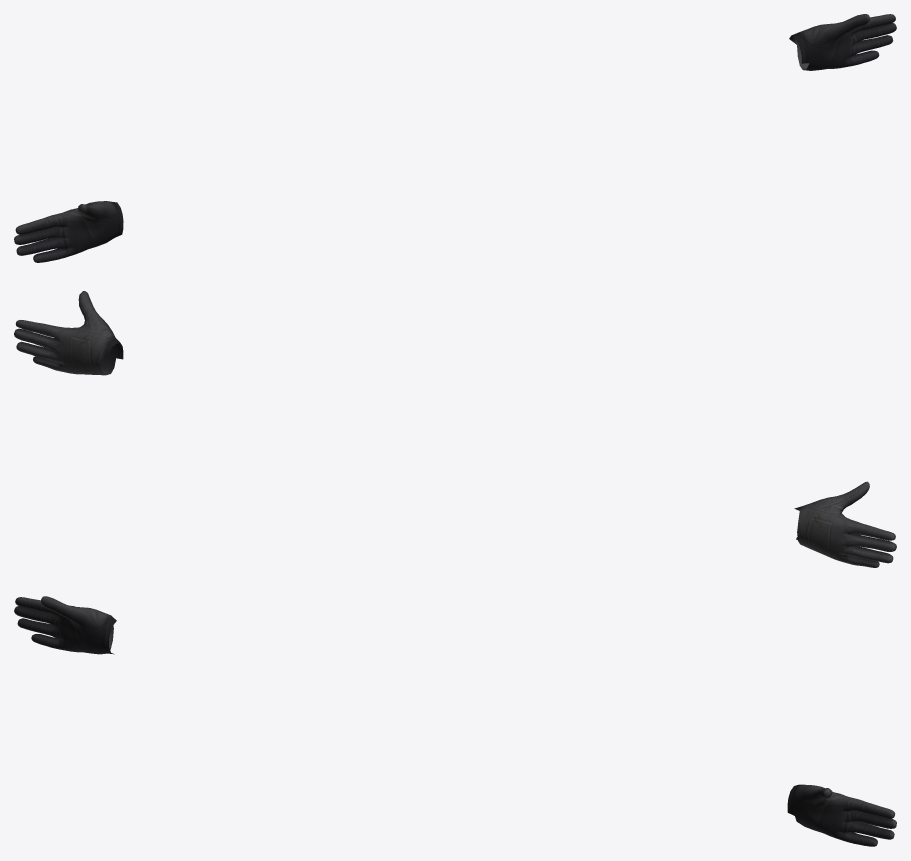
File: pickup_soldier_hands.glb
The picture shows the model from 3 angles, top to bottom: view 1: azimuth 30°, elevation 25°; view 2: azimuth 150°, elevation 25°; view 3: azimuth 330°, elevation 25°; orthographic projection.
Parts seen in each view (by area): view 1: soldier_hands; view 2: soldier_hands; view 3: soldier_hands.
Boxes of the visible parts, bbox=[...] form: soldier_hands: bbox=[14, 14, 896, 262]; soldier_hands: bbox=[14, 291, 896, 567]; soldier_hands: bbox=[14, 596, 896, 846].
Bounding box in the file's own units: 1.5 × 0.1089 × 0.0869.
1 material, 1 textured.
